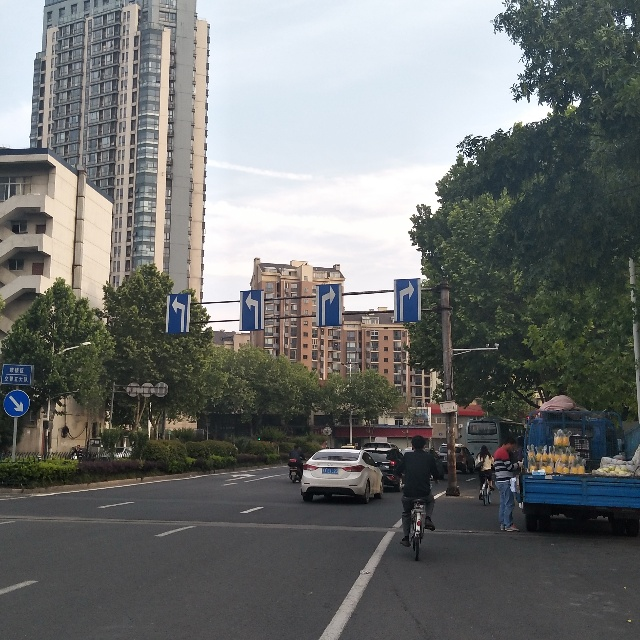left: (164, 293, 192, 334), (241, 284, 262, 327)
right: (394, 279, 420, 320), (320, 290, 340, 329)
